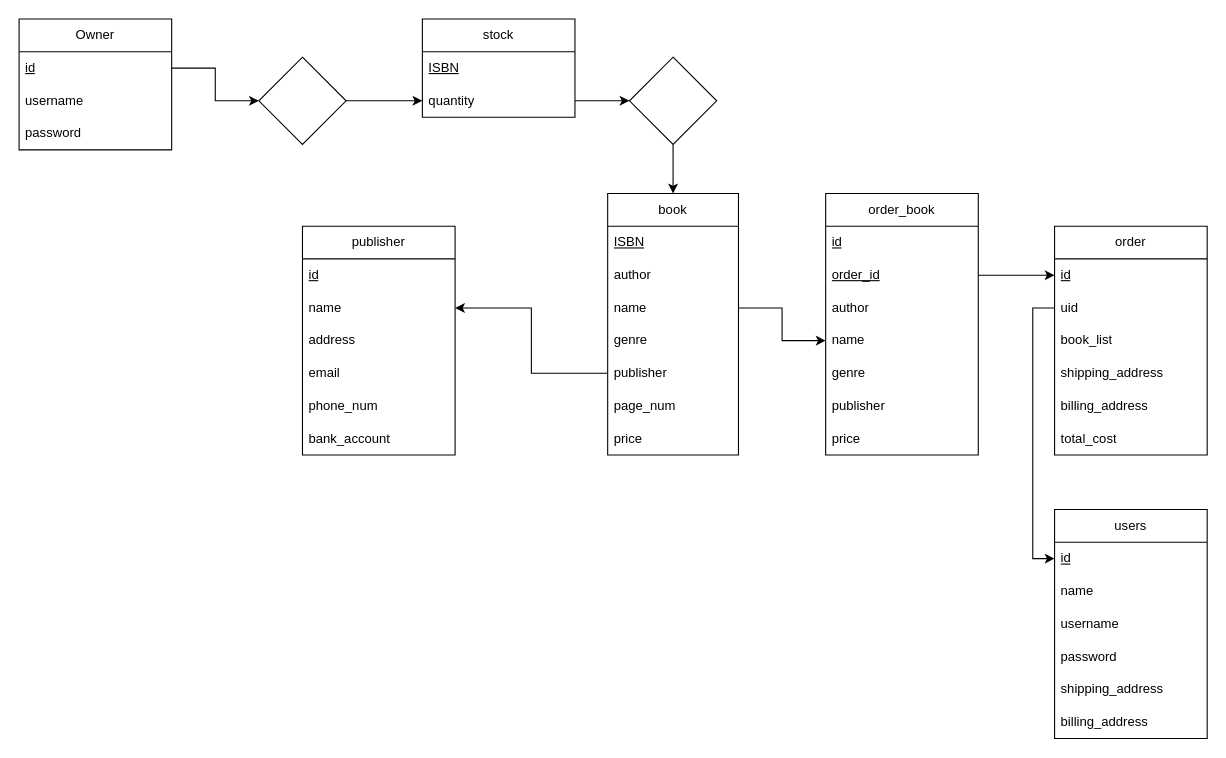
The diagram is 1226 pixels wide and 758 high, and some of its shapes have lost their labels. The centre of each missing label's shape, as x and y in pixels:
manages: (x=302, y=100)
Restocks: (x=672, y=100)
